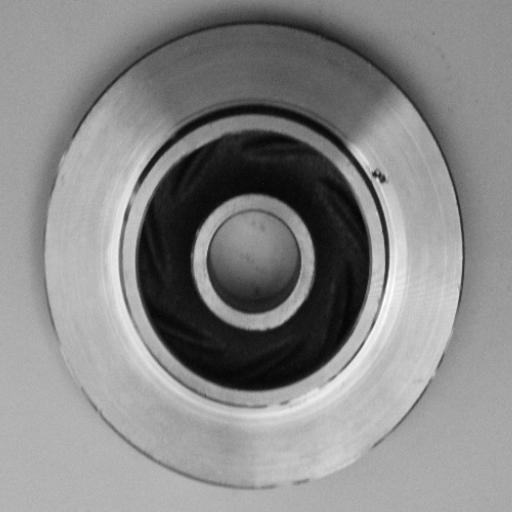crack: (364, 152, 398, 193)
scratch: (248, 381, 338, 418)
unpolished_casting: (43, 20, 467, 494)
